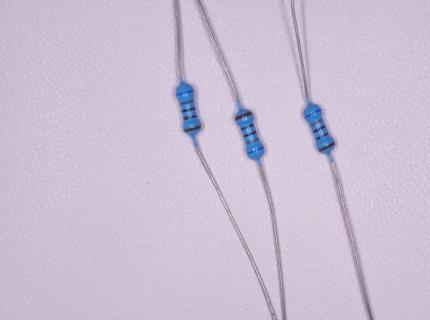Black band: (312, 125, 327, 134), (315, 132, 330, 141), (240, 123, 255, 131), (243, 131, 257, 138), (182, 107, 197, 113), (183, 115, 197, 121)
Blue band: (304, 109, 322, 119), (247, 146, 264, 155), (177, 90, 194, 96)
Brown band: (318, 141, 335, 152), (235, 112, 253, 121), (183, 125, 201, 133)
Grey band: (245, 137, 259, 145), (310, 119, 323, 127), (180, 99, 194, 105)
